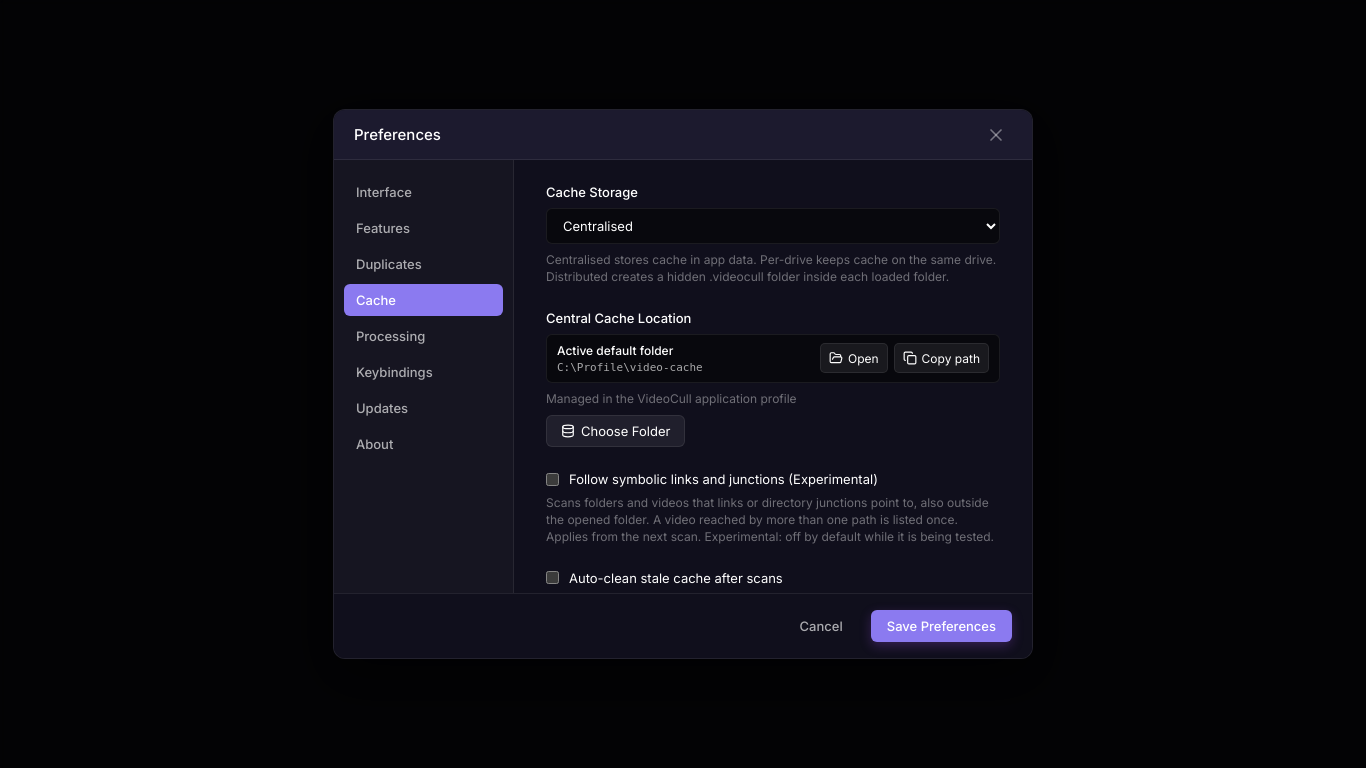
Test: SettingsModal integration behavior › does not save settings when an older migration reports partial success
The width and height of the screenshot is (1366, 768).
Select "Per-drive" in the dropdown at (773, 226), box [546,208,1000,244]
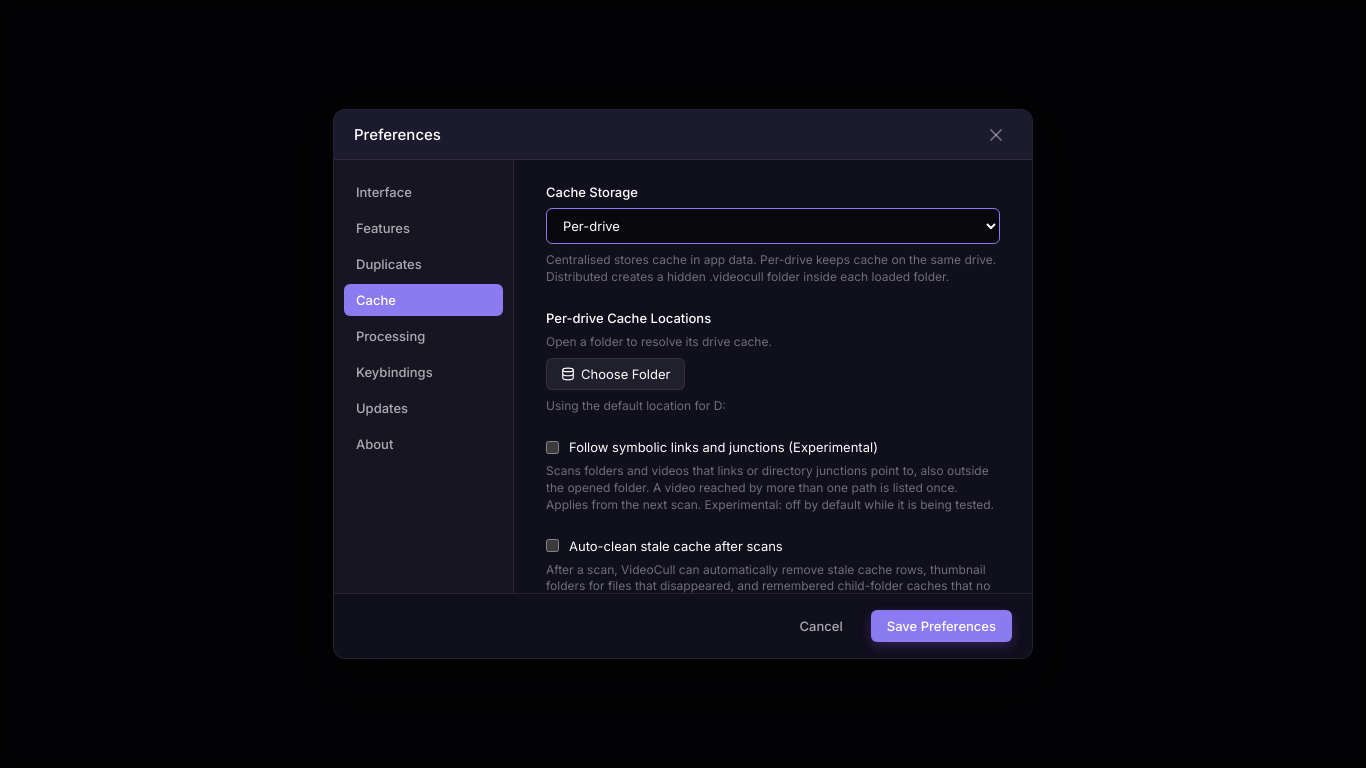
Click the button "Save Preferences" at (941, 626), box [871,610,1012,642]
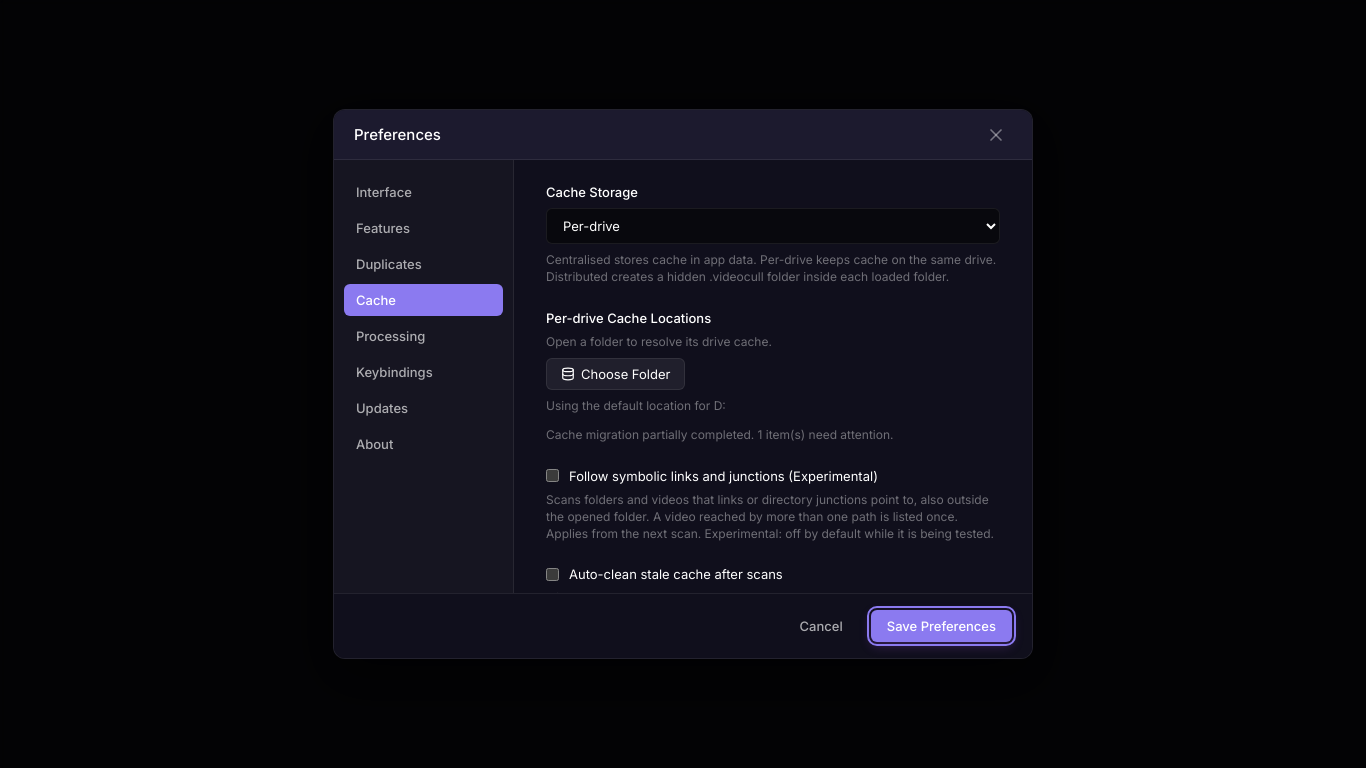
Check: the text "Cache migration partially completed" is shown, box [546,427,894,442]
